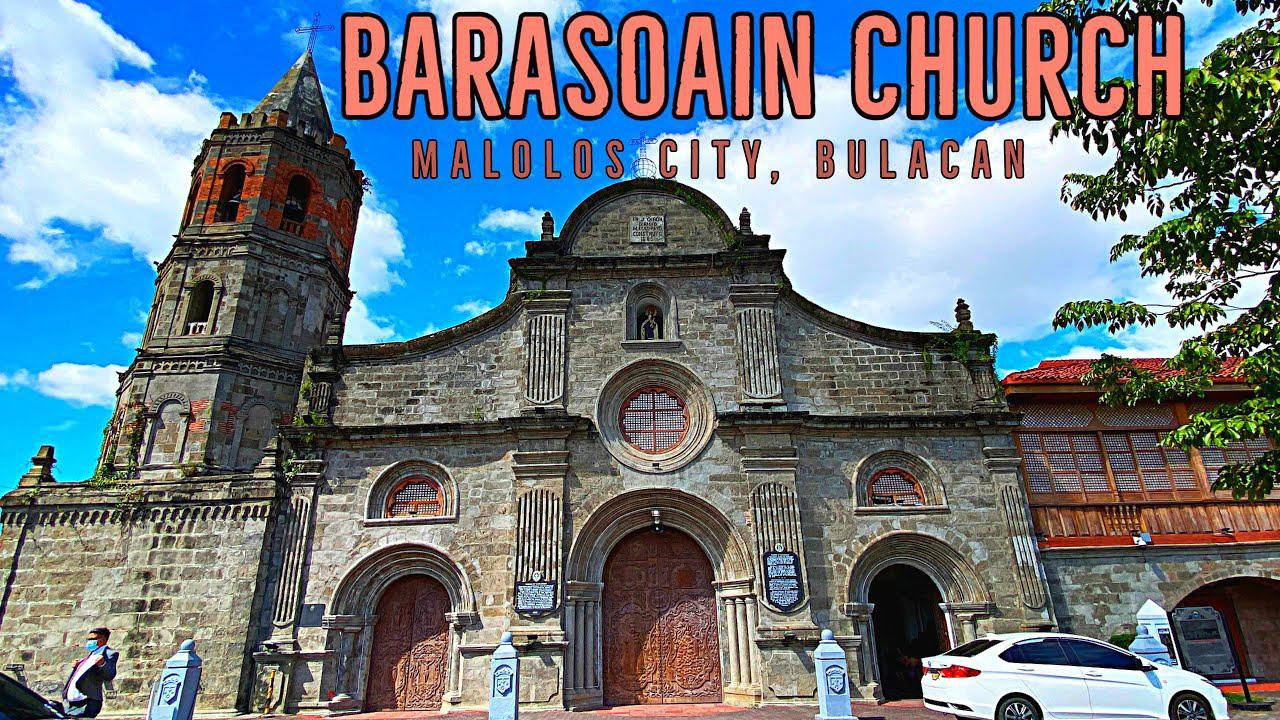barasoain_church_malolos_bulacan: (11, 16, 1050, 711)
